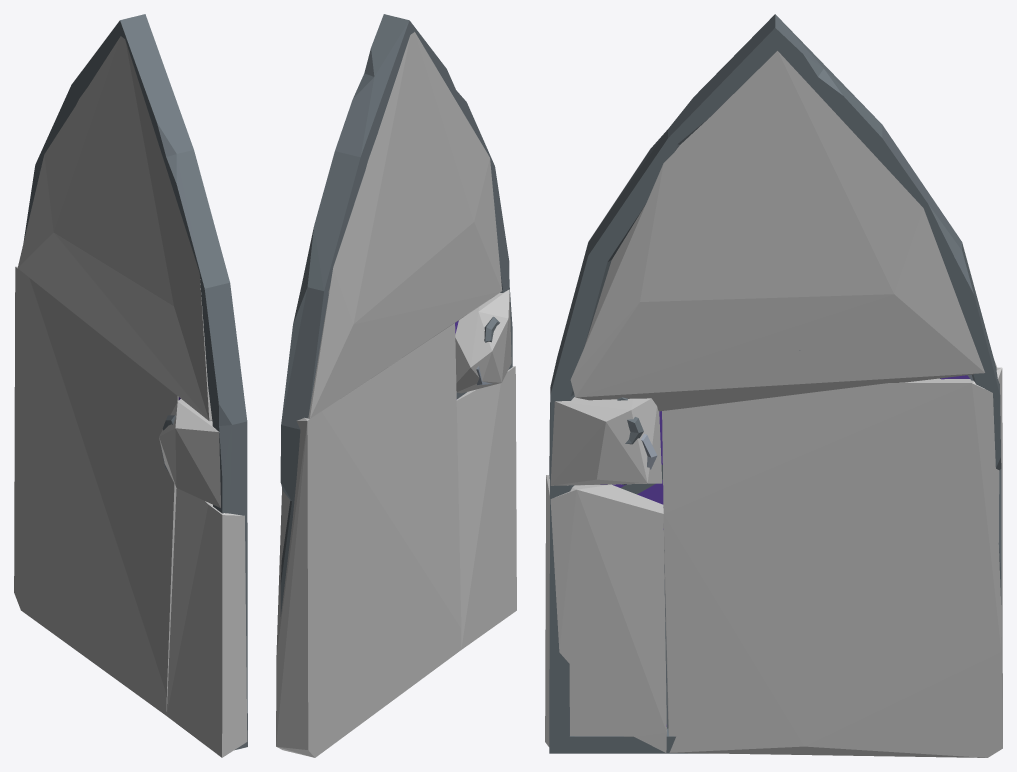
The model's file is SM_Bld_Door_01.fbx.
The picture shows the model from 3 angles, left to right: view 1: azimuth 30°, elevation 25°; view 2: azimuth 150°, elevation 25°; view 3: azimuth 270°, elevation 25°; orthographic projection. The views are drawn at different scales.
Parts seen in each view (by area): view 1: SM_Bld_Door_01_ConvexHulls, SM_Bld_Door_01; view 2: SM_Bld_Door_01_ConvexHulls, SM_Bld_Door_01; view 3: SM_Bld_Door_01_ConvexHulls, SM_Bld_Door_01.
Boxes of the visible parts, <box> form: SM_Bld_Door_01_ConvexHulls: <box>14,36,247,757</box>; SM_Bld_Door_01: <box>23,14,247,750</box>; SM_Bld_Door_01_ConvexHulls: <box>276,32,516,757</box>; SM_Bld_Door_01: <box>280,14,512,616</box>; SM_Bld_Door_01_ConvexHulls: <box>545,51,1002,757</box>; SM_Bld_Door_01: <box>549,14,1001,753</box>.
Size of the model in its own units: 27.56 by 146 by 256.
2 materials, 1 textured.
